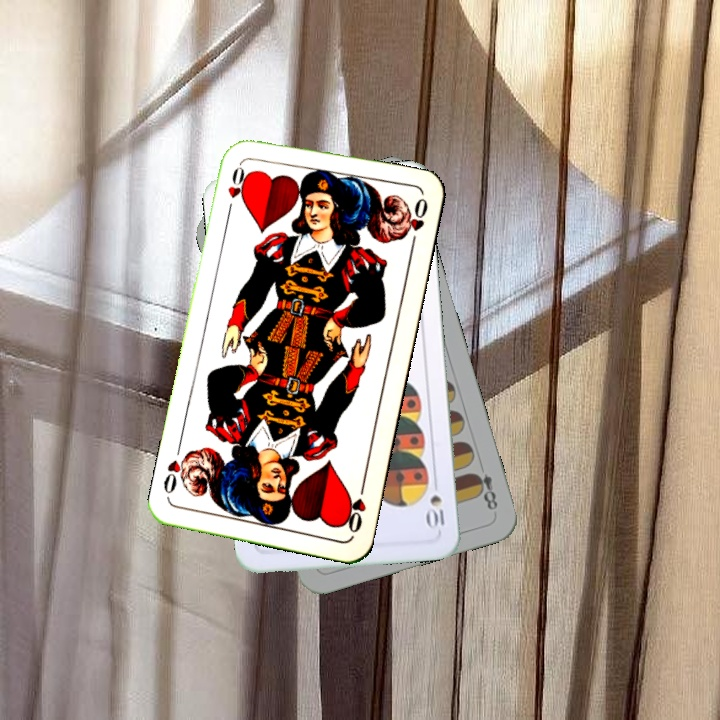E8: (468, 468, 500, 513)
HO: (340, 479, 369, 536), (224, 157, 251, 204)
S10: (424, 490, 447, 533)
